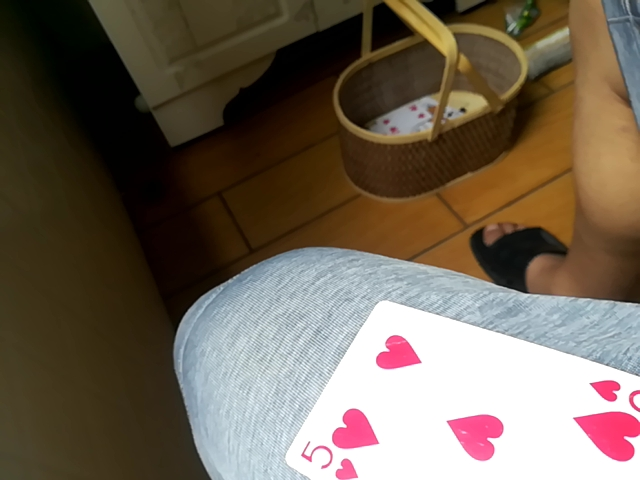hx 5: (274, 301, 638, 479)
